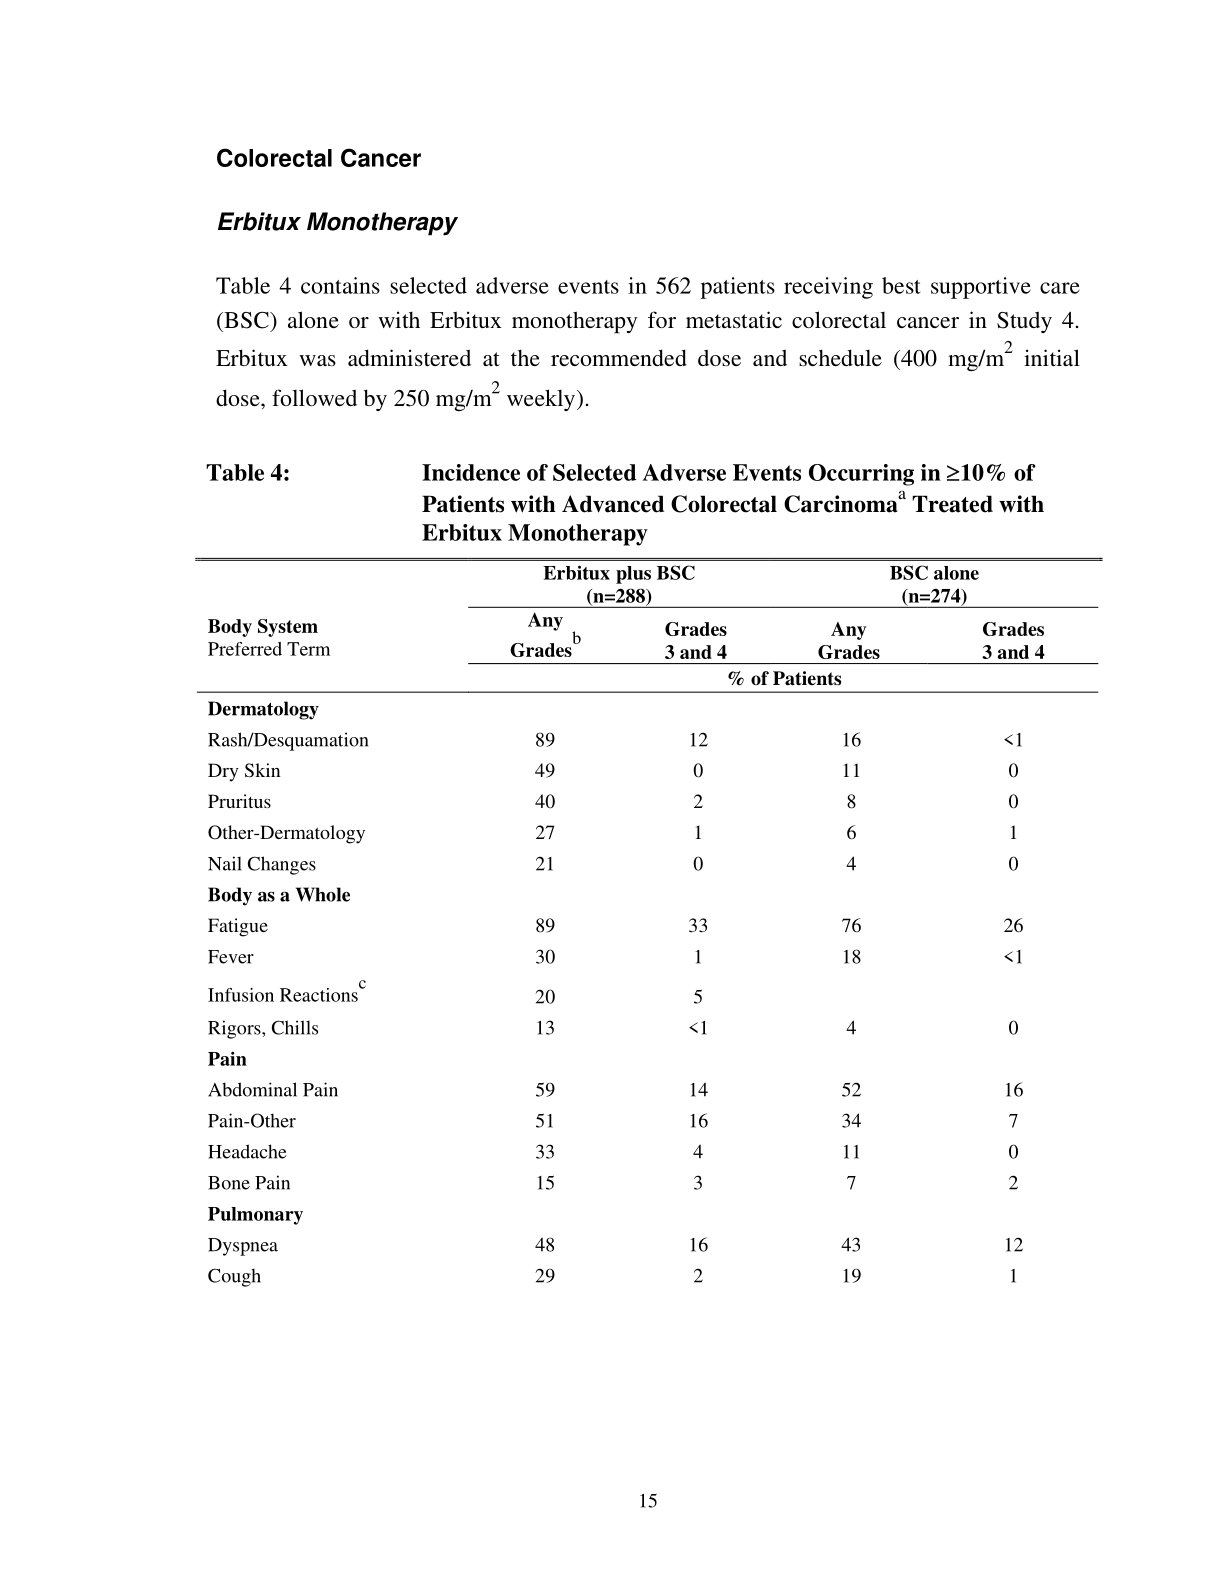partial_lined_merged_cells: (188, 555, 1108, 1293)
